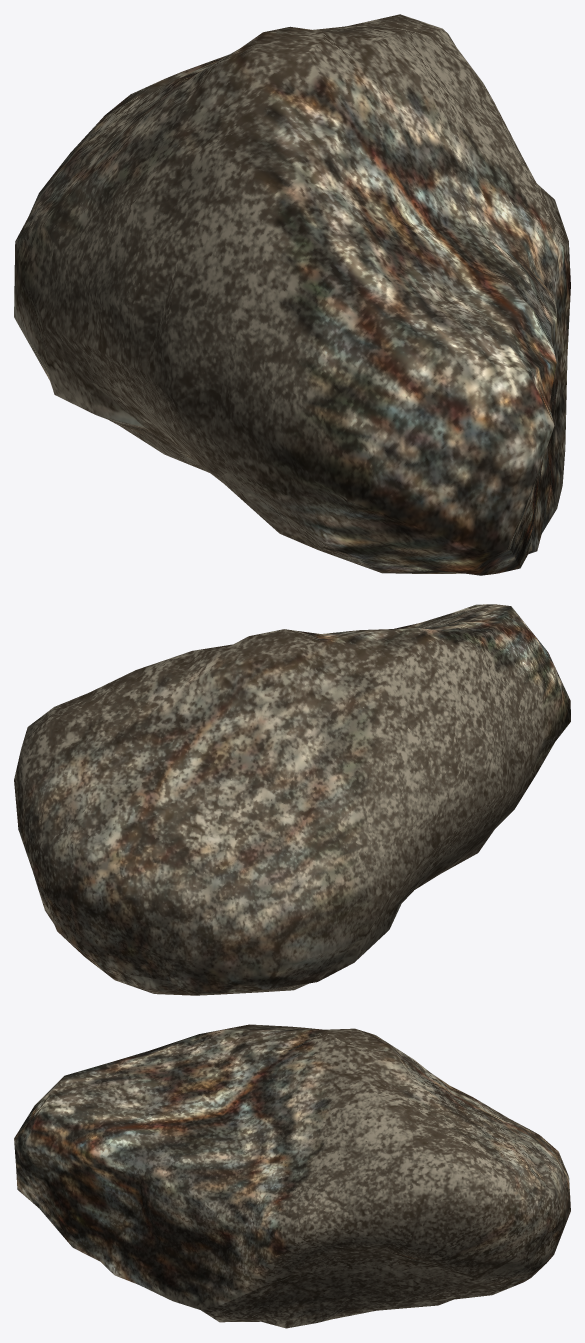
The model's file is mm8_deco_rock24.glb.
3 renders of one model, top to bottom at view 1: azimuth 30°, elevation 25°; view 2: azimuth 150°, elevation 25°; view 3: azimuth 270°, elevation 25°, orthographic. The views are drawn at different scales.
Visible parts, largest first — view 1: Rock24; view 2: Rock24; view 3: Rock24.
Part boxes in pixels (left/top/right/bottom): Rock24: left=14, top=14, right=570, bottom=575; Rock24: left=14, top=604, right=570, bottom=995; Rock24: left=14, top=1024, right=570, bottom=1328.
Bounding box in the file's own units: 0.5012 × 0.4388 × 0.8552.
1 material, 1 textured.
